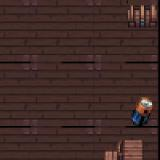Hide: (124, 0, 160, 30)
Obstacle: (93, 127, 160, 160)
Win: (115, 86, 160, 138)
